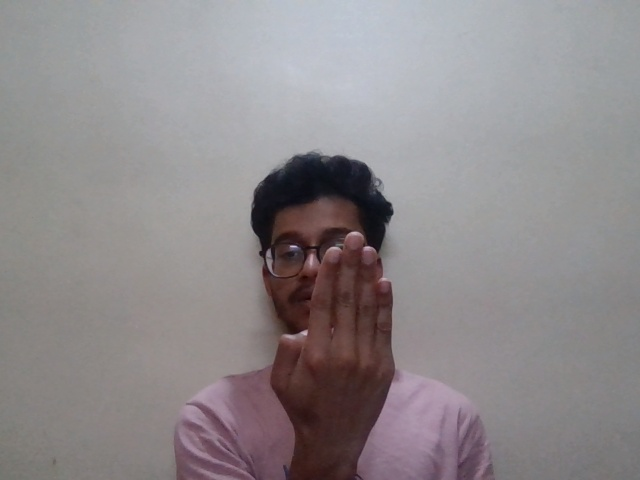good-bye: (272, 235, 416, 450)
